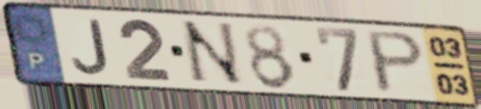2: (117, 17, 176, 85)
7: (312, 25, 363, 94)
8: (242, 22, 299, 91)
J: (69, 17, 113, 78)
N: (178, 19, 249, 88)
P: (364, 29, 428, 95)
